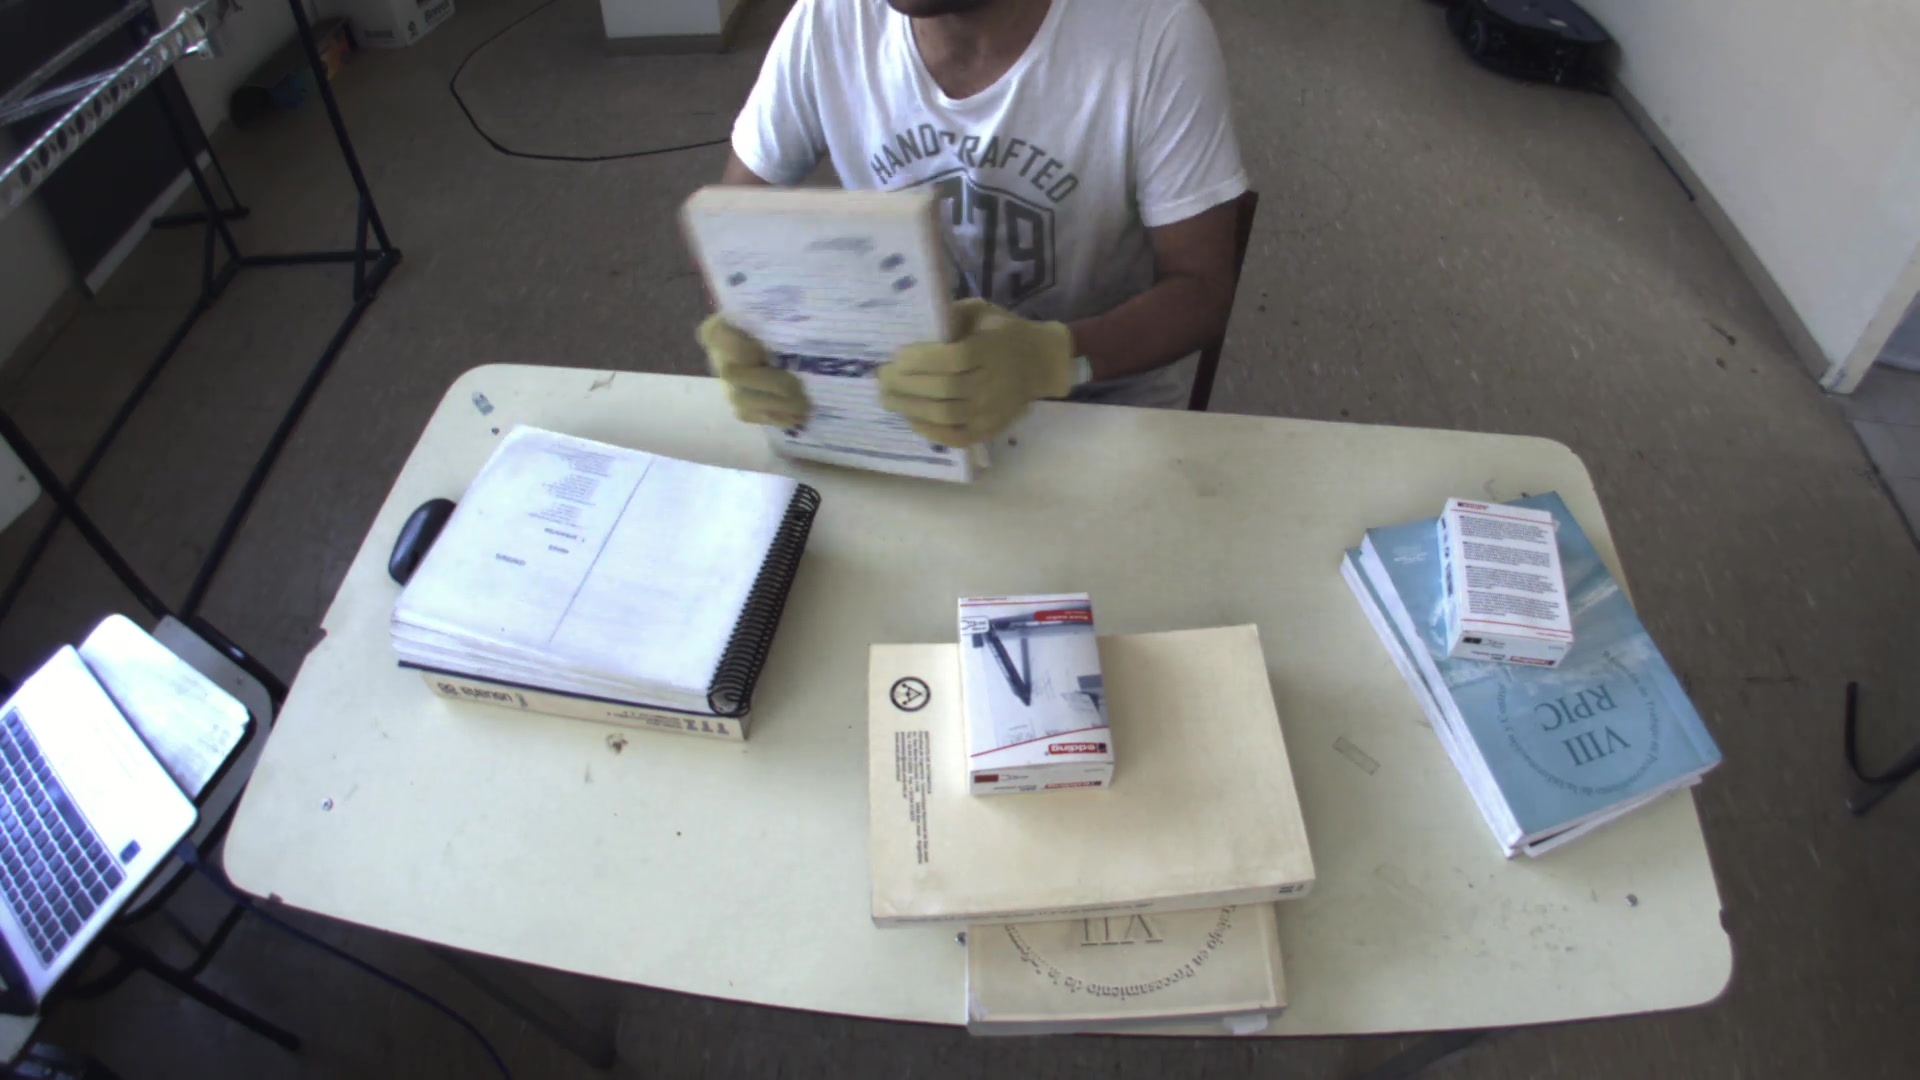hand: (864, 281, 1095, 459), (679, 306, 814, 439)
